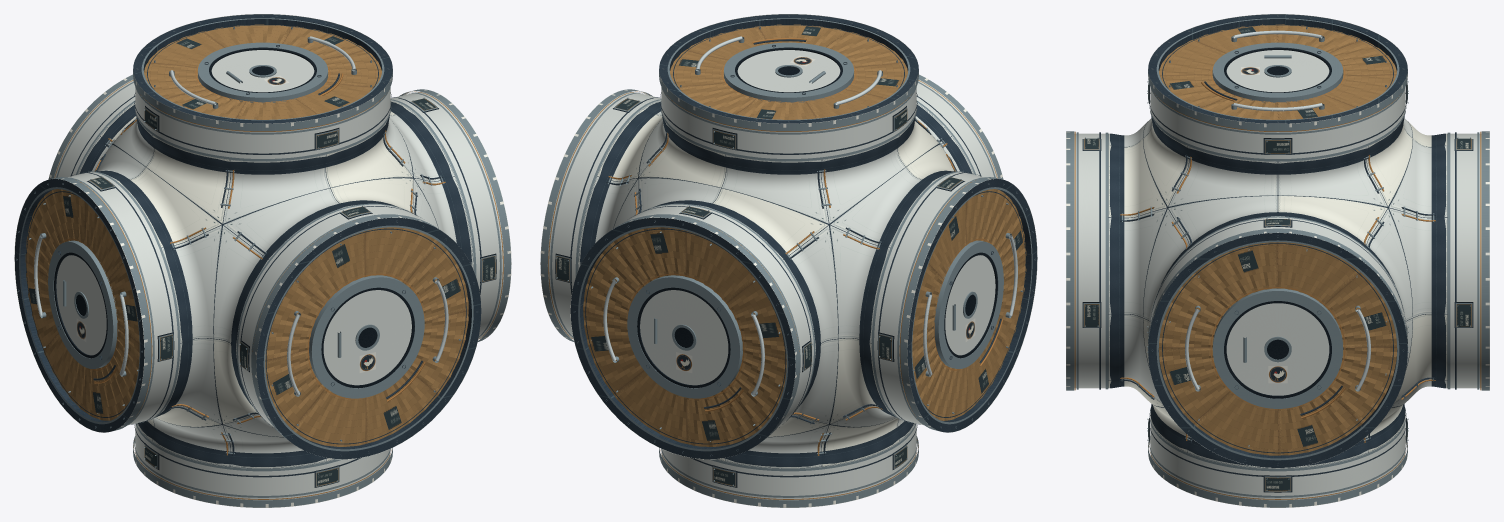
File: RW_HUB_500.obj
The picture shows the model from 3 angles, left to right: view 1: azimuth 30°, elevation 25°; view 2: azimuth 150°, elevation 25°; view 3: azimuth 270°, elevation 25°; orthographic projection.
Parts seen in each view (by area): view 1: RW_Hub_hubblanket, RW_Hub_ceramic, RW_Hub_graphite, RW_Hub_steel, RW_Hub_cladding, RW_Hub_cladding_white, RW_Hub_detail, RW_Hub_black, RW_Hub_bronze, RW_Hub_white, RW_Hub_rail, RW_Hub_crest; view 2: RW_Hub_hubblanket, RW_Hub_ceramic, RW_Hub_graphite, RW_Hub_steel, RW_Hub_cladding, RW_Hub_cladding_white, RW_Hub_detail, RW_Hub_black, RW_Hub_bronze, RW_Hub_white, RW_Hub_rail, RW_Hub_crest; view 3: RW_Hub_ceramic, RW_Hub_hubblanket, RW_Hub_graphite, RW_Hub_steel, RW_Hub_cladding, RW_Hub_cladding_white, RW_Hub_detail, RW_Hub_bronze, RW_Hub_black, RW_Hub_white, RW_Hub_rail, RW_Hub_crest.
Boxes of the visible parts, <box> form: RW_Hub_hubblanket: <box>25,24,468,446</box>; RW_Hub_ceramic: <box>54,50,504,500</box>; RW_Hub_graphite: <box>14,14,481,477</box>; RW_Hub_steel: <box>16,15,511,507</box>; RW_Hub_cladding: <box>78,109,473,468</box>; RW_Hub_cladding_white: <box>100,101,413,460</box>; RW_Hub_detail: <box>28,36,495,486</box>; RW_Hub_black: <box>54,47,496,487</box>; RW_Hub_bronze: <box>54,65,503,499</box>; RW_Hub_white: <box>14,14,511,507</box>; RW_Hub_rail: <box>34,36,448,395</box>; RW_Hub_crest: <box>76,75,375,372</box>; RW_Hub_hubblanket: <box>583,24,1026,446</box>; RW_Hub_ceramic: <box>547,50,997,500</box>; RW_Hub_graphite: <box>570,14,1037,477</box>; RW_Hub_steel: <box>540,15,1035,507</box>; RW_Hub_cladding: <box>578,101,973,468</box>; RW_Hub_cladding_white: <box>597,109,953,466</box>; RW_Hub_detail: <box>556,26,1023,486</box>; RW_Hub_black: <box>555,47,997,487</box>; RW_Hub_bronze: <box>548,38,1002,499</box>; RW_Hub_white: <box>540,14,1037,507</box>; RW_Hub_rail: <box>603,36,1017,395</box>; RW_Hub_crest: <box>676,55,975,372</box>; RW_Hub_ceramic: <box>1074,50,1481,500</box>; RW_Hub_hubblanket: <box>1158,24,1397,455</box>; RW_Hub_graphite: <box>1099,14,1456,476</box>; RW_Hub_steel: <box>1066,15,1489,507</box>; RW_Hub_cladding: <box>1108,118,1447,468</box>; RW_Hub_cladding_white: <box>1108,111,1447,452</box>; RW_Hub_detail: <box>1084,26,1471,491</box>; RW_Hub_bronze: <box>1074,65,1481,499</box>; RW_Hub_black: <box>1082,47,1473,492</box>; RW_Hub_white: <box>1066,14,1489,507</box>; RW_Hub_rail: <box>1185,30,1370,389</box>; RW_Hub_crest: <box>1241,67,1287,383</box>.
Bounding box in the file's own units: 8 × 8 × 8.
12 materials, 12 textured.
